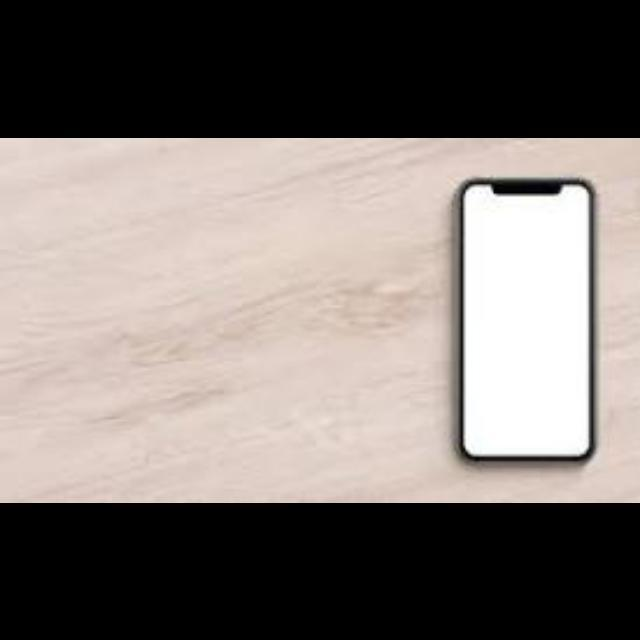Phone: (452, 177, 596, 465)
